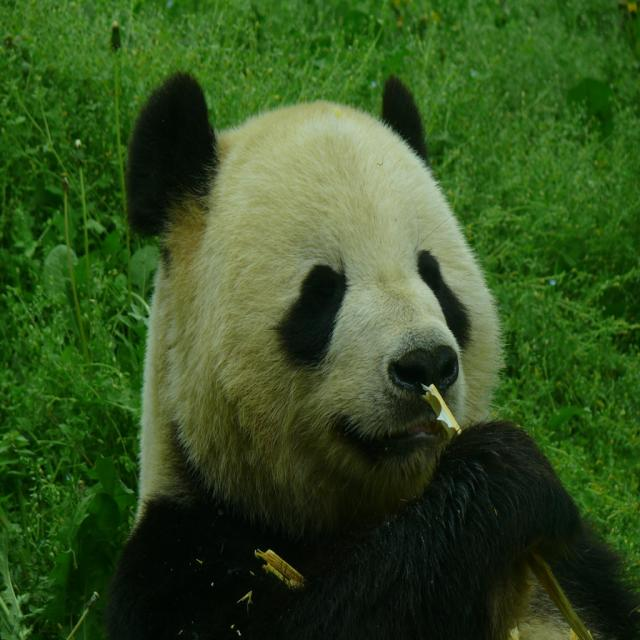panda: (107, 65, 640, 640)
